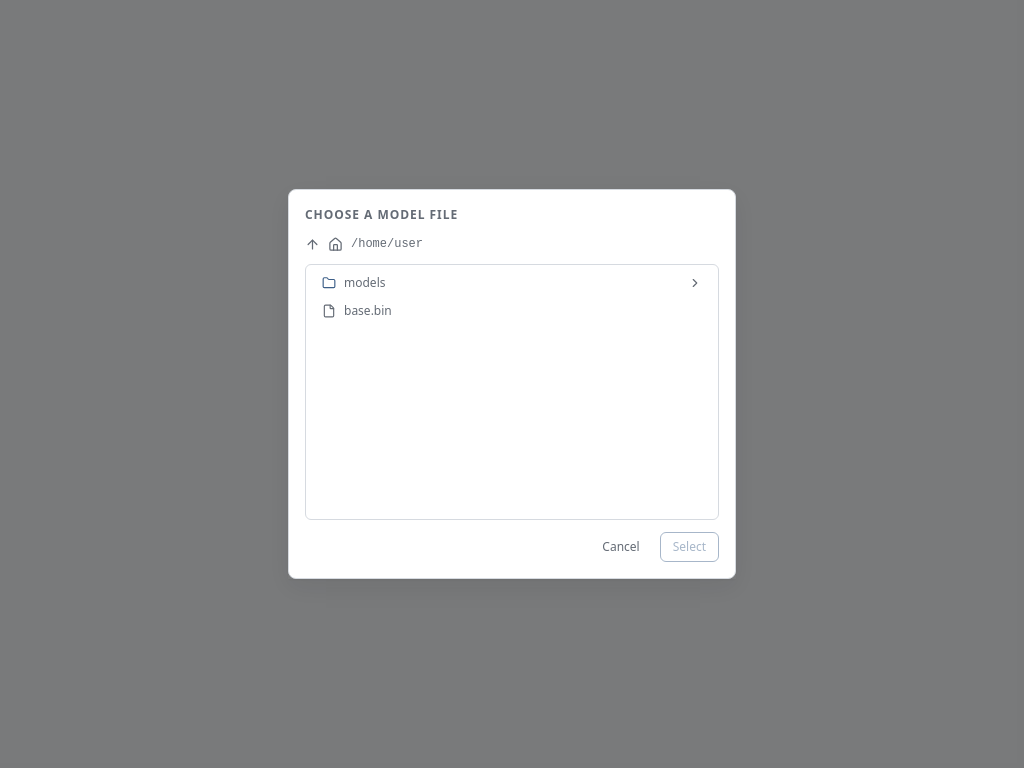
Test: FilePicker › surfaces a directory that cannot be read, without crashing
Click the button "models" at (365, 282), box [310,269,714,297]
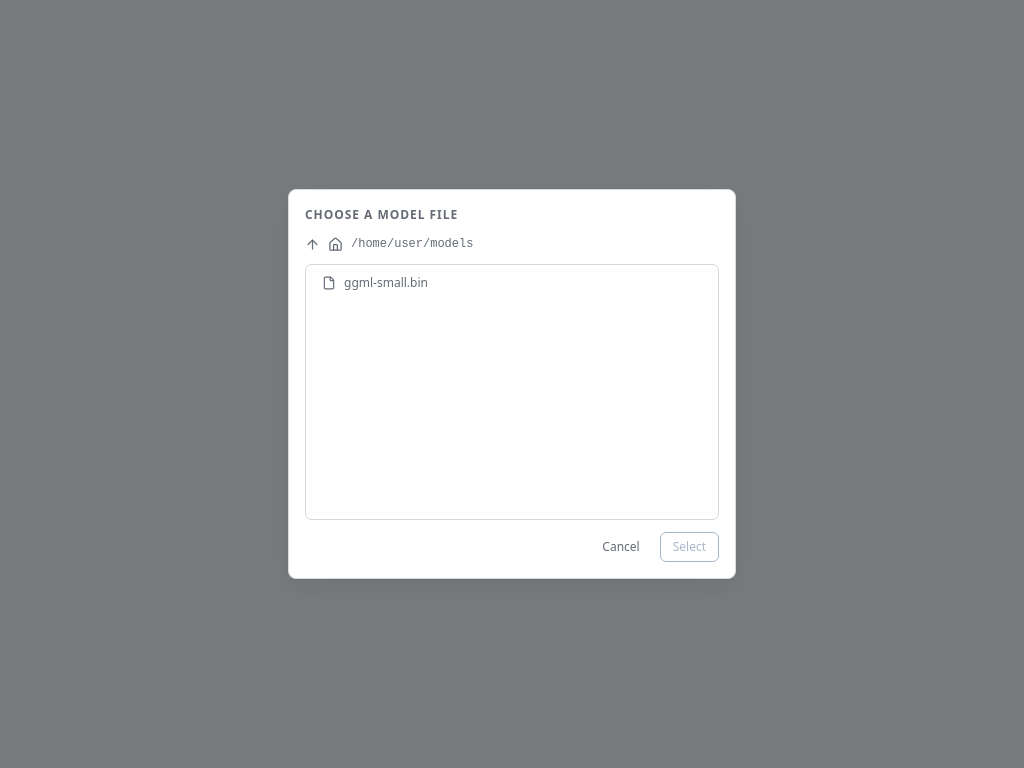
expect the button "ggml-small.bin" is shown: met, box [310,269,714,297]
Click the button named "Up one level" at (312, 244), box [305,236,320,252]
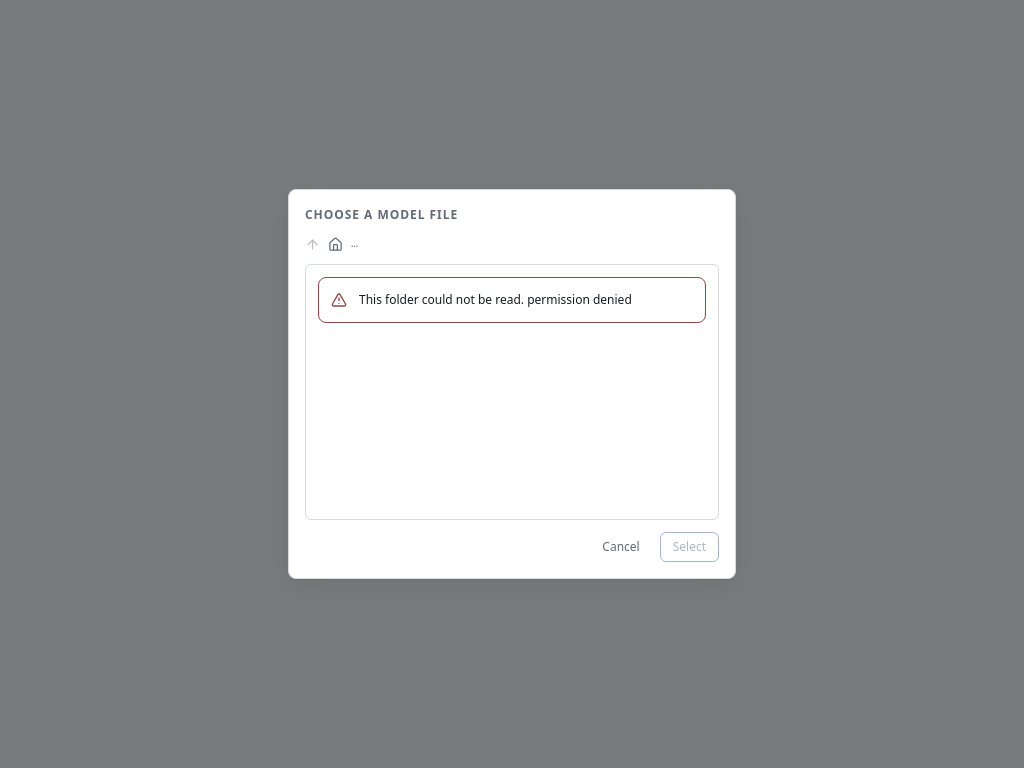
expect the text "This folder could not be read. permission denied" is shown: met, box [359,291,632,308]
